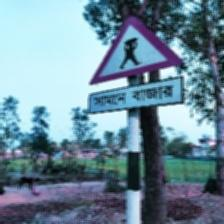Market-in-front: (87, 13, 186, 116)
